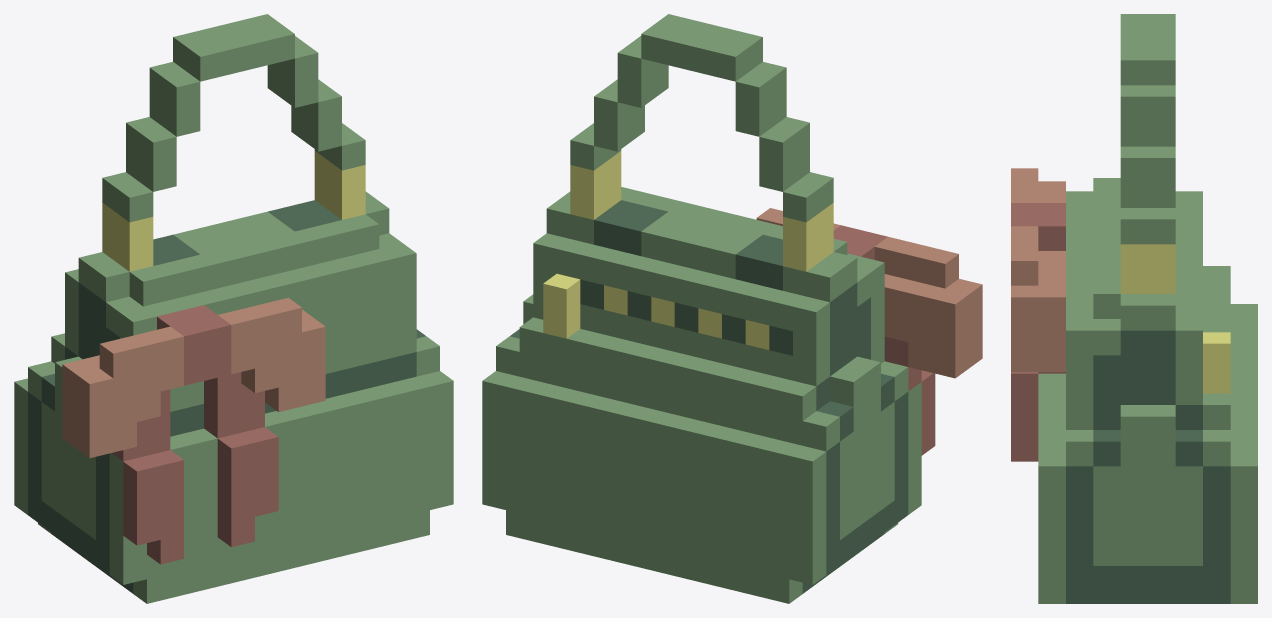
The model's file is leather-bag.glb.
The picture shows the model from 3 angles, left to right: view 1: azimuth 30°, elevation 25°; view 2: azimuth 150°, elevation 25°; view 3: azimuth 270°, elevation 25°; orthographic projection.
Parts seen in each view (by area): view 1: leather-bag.vox; view 2: leather-bag.vox; view 3: leather-bag.vox.
Boxes of the visible parts, x1=… form: leather-bag.vox: x1=14, y1=14, x2=453, y2=603; leather-bag.vox: x1=482, y1=14, x2=982, y2=603; leather-bag.vox: x1=1011, y1=14, x2=1257, y2=603.
Bounding box in the file's own units: 1.6 × 2 × 0.9.
1 material, 1 textured.
